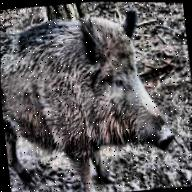boar: (0, 12, 179, 190)
